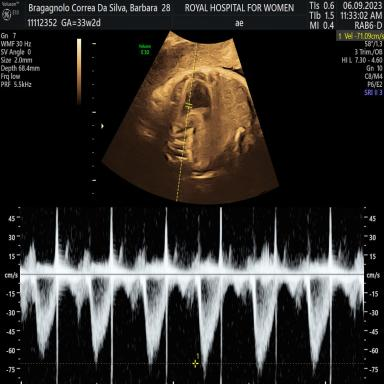Ultrasound-Waves: (26, 205, 361, 384)
